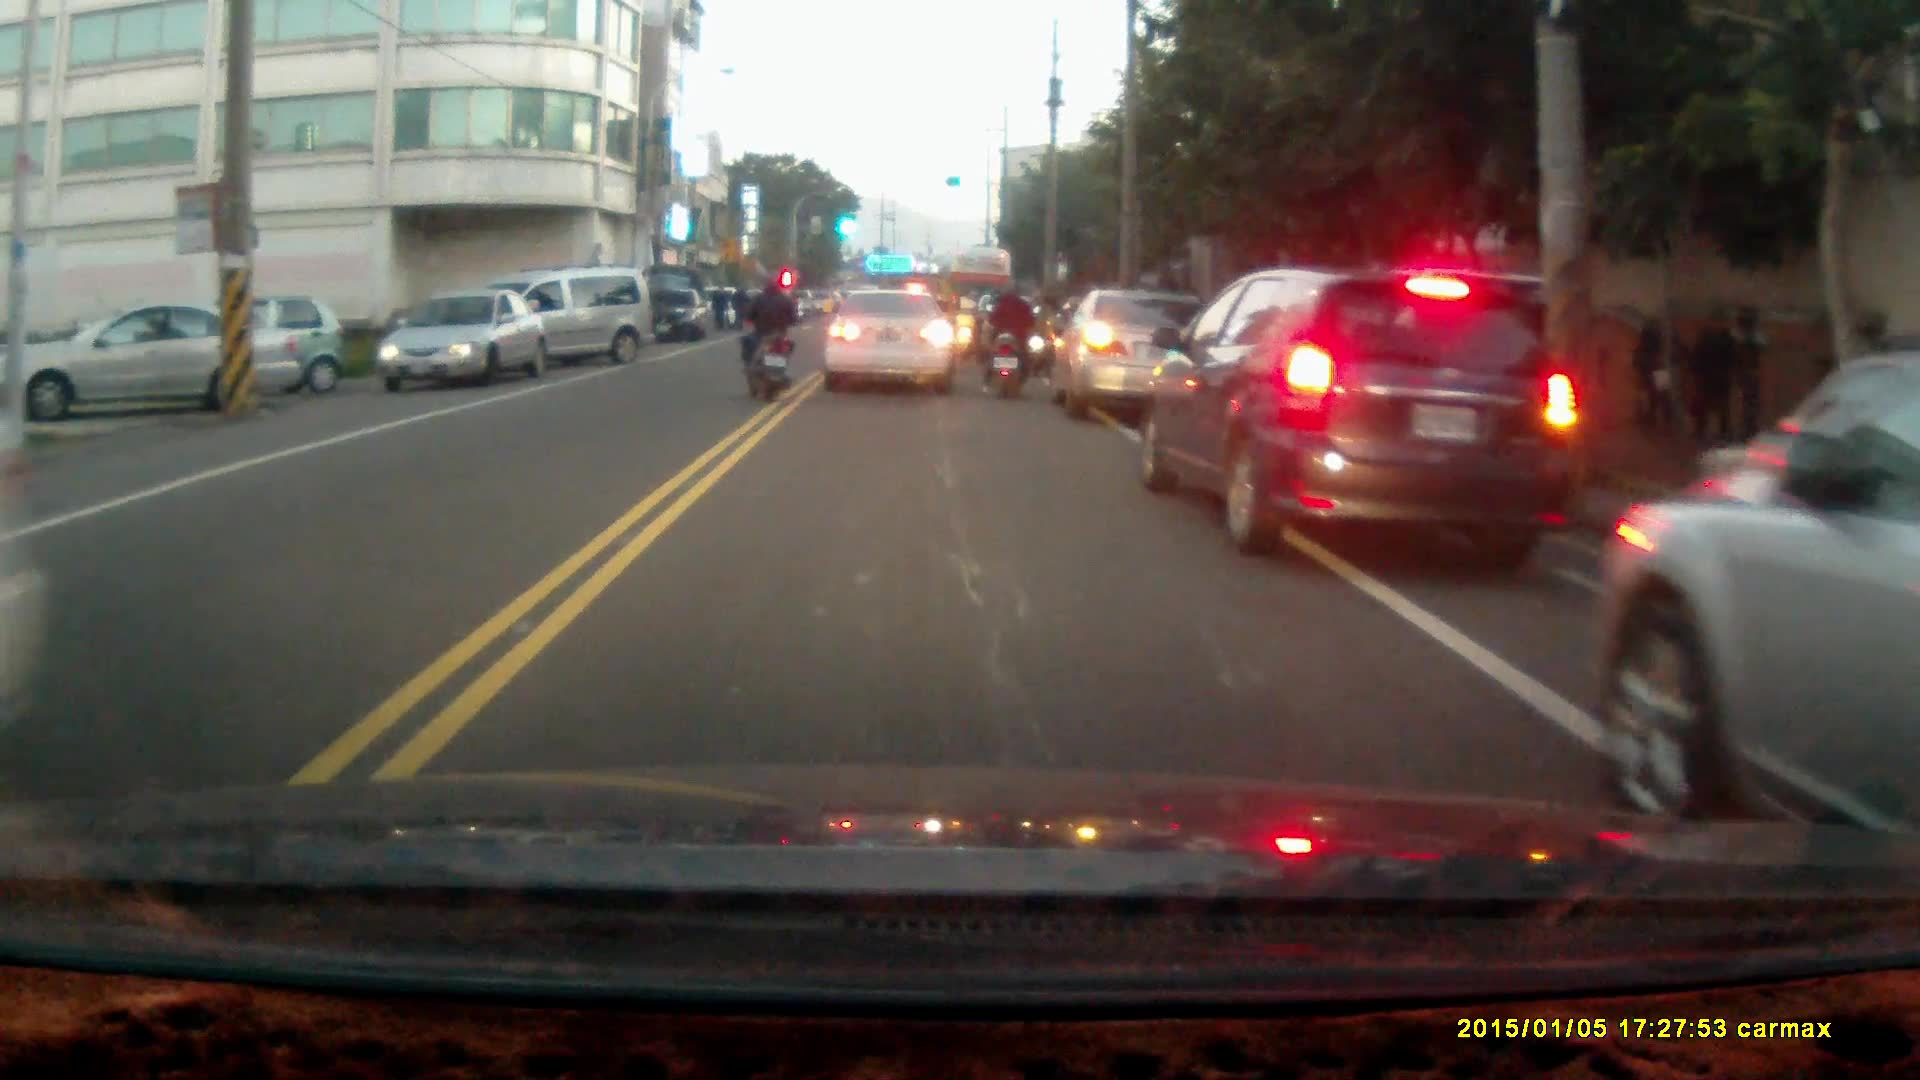pedestrian: (1688, 305, 1742, 451), (1638, 304, 1687, 450)
rider: (981, 271, 1042, 401), (738, 275, 799, 400)
vehicle: (1587, 369, 1920, 872), (1135, 263, 1584, 557), (12, 303, 279, 419), (128, 295, 348, 399), (1047, 286, 1214, 416), (475, 266, 656, 375), (378, 288, 545, 393), (822, 288, 957, 398), (647, 289, 705, 345)
